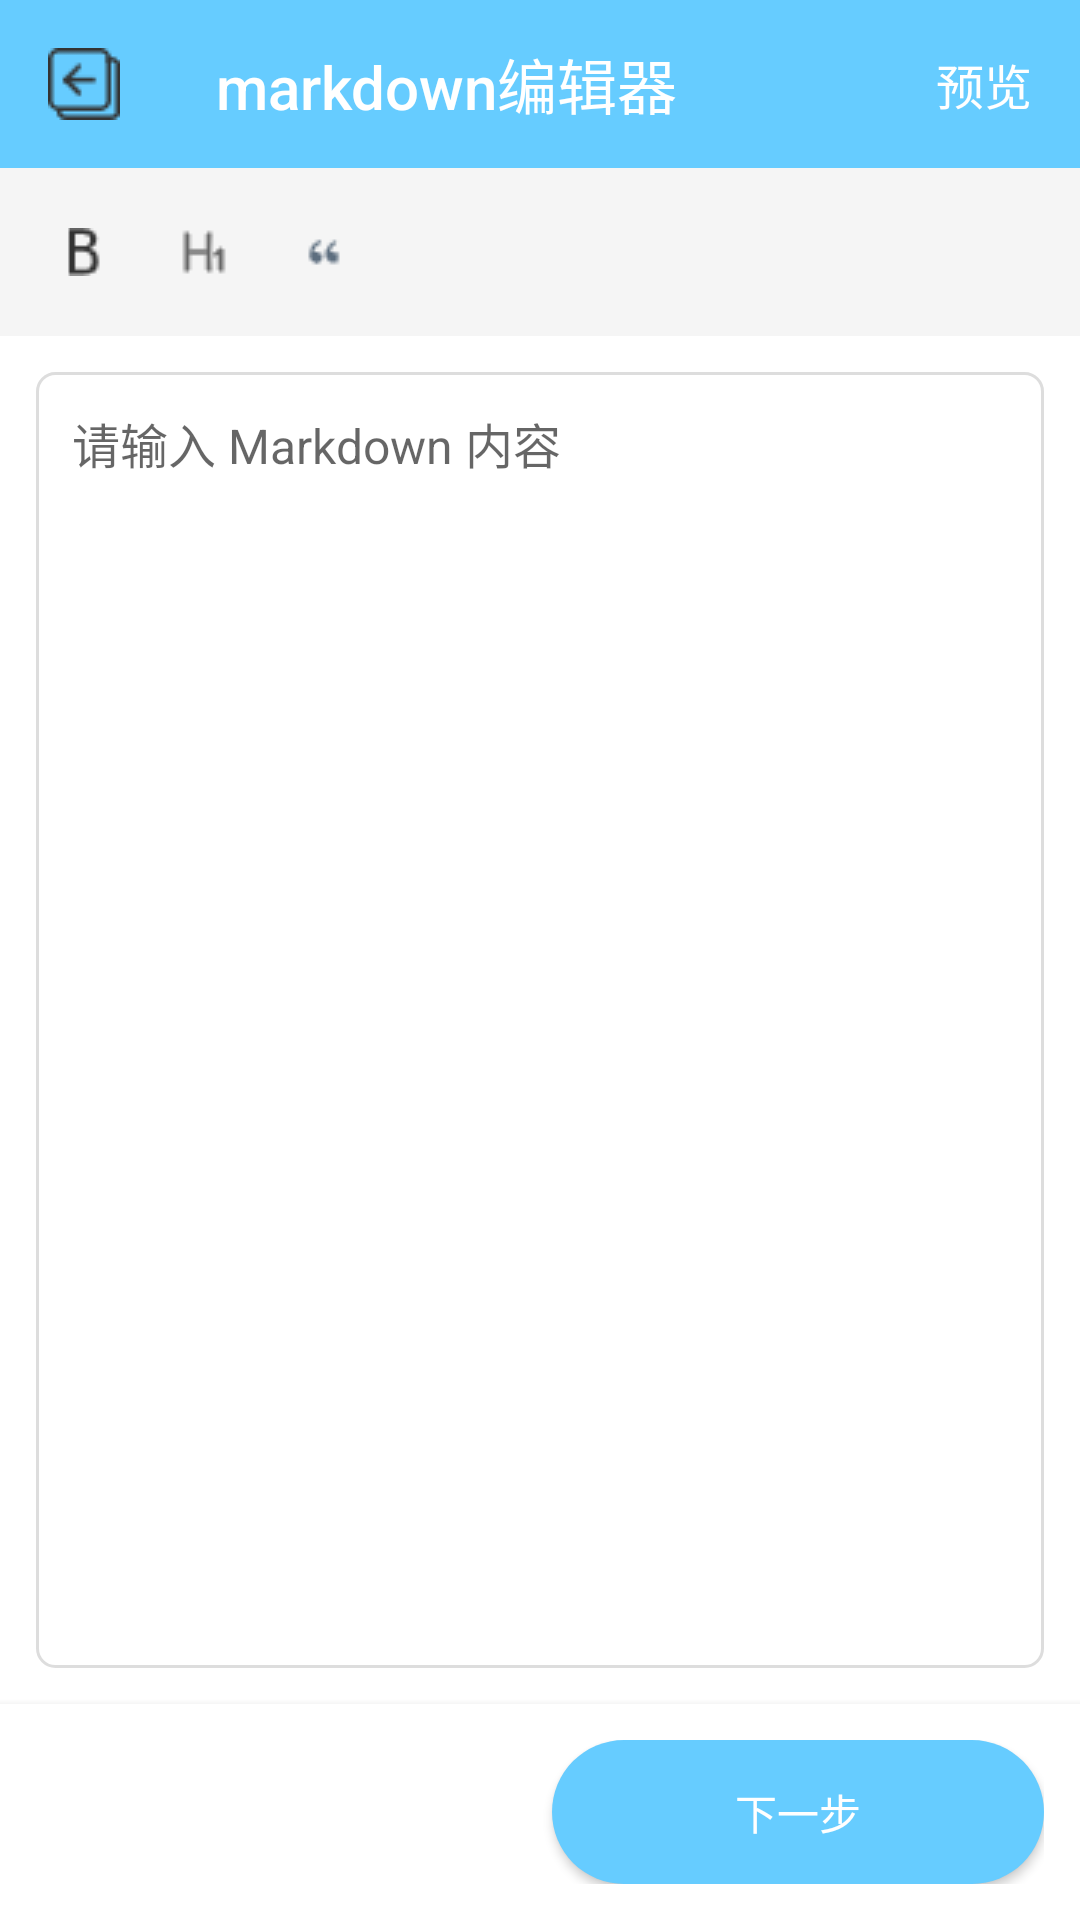

Where icons sit on this 1080×1920 app screen, as (x1, y1, x2, y2):
加粗: (68, 228, 100, 276)
引用: (308, 239, 340, 265)
标题: (183, 231, 225, 273)
